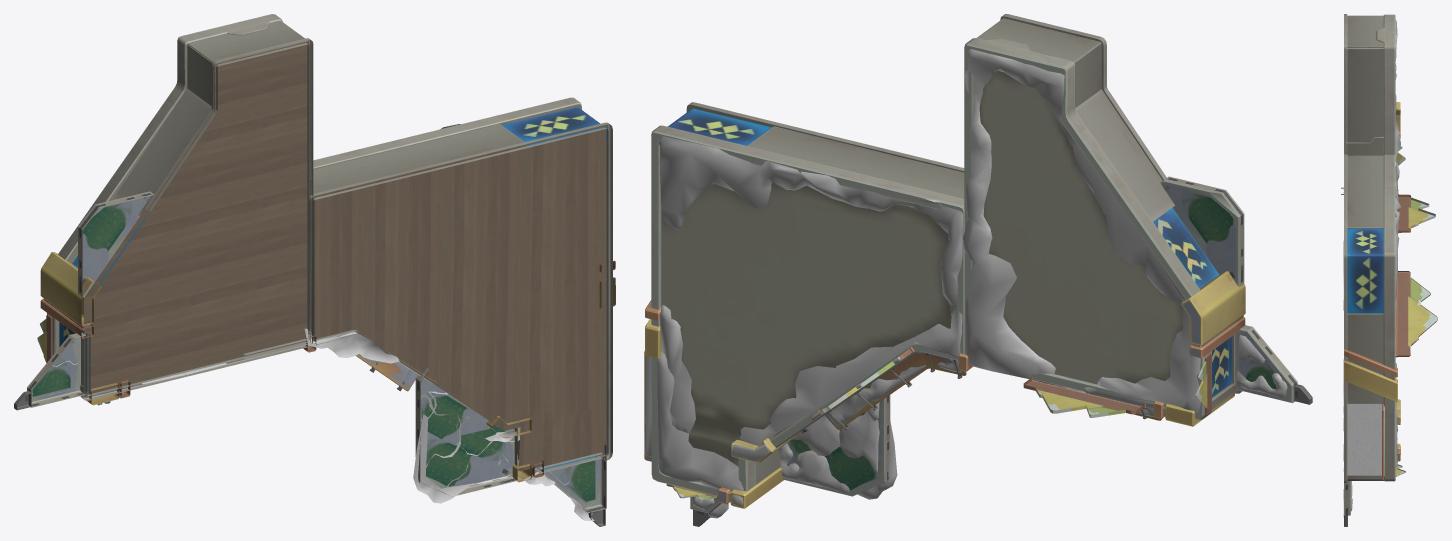
Rendered from pref_sm_city_shop01_snow_lv3.fbx.
The picture shows the model from 3 angles, left to right: view 1: azimuth 30°, elevation 25°; view 2: azimuth 150°, elevation 25°; view 3: azimuth 270°, elevation 25°; orthographic projection. The views are drawn at different scales.
Visible parts, largest first — view 1: sm_city_shop01_snow_lv3, sm_city_shop01b_snow_lv3; view 2: sm_city_shop01_snow_lv3, sm_city_shop01b_snow_lv3; view 3: sm_city_shop01_snow_lv3, sm_city_shop01b_snow_lv3.
Boxes of the visible parts, x1=… form: sm_city_shop01_snow_lv3: x1=14, y1=14, x2=615, y2=526; sm_city_shop01b_snow_lv3: x1=32, y1=124, x2=599, y2=520; sm_city_shop01_snow_lv3: x1=644, y1=14, x2=1312, y2=526; sm_city_shop01b_snow_lv3: x1=644, y1=49, x2=1287, y2=518; sm_city_shop01_snow_lv3: x1=1341, y1=14, x2=1437, y2=526; sm_city_shop01b_snow_lv3: x1=1343, y1=20, x2=1420, y2=517.
Bounding box in the file's own units: 54.17 × 47.44 × 10.86.
